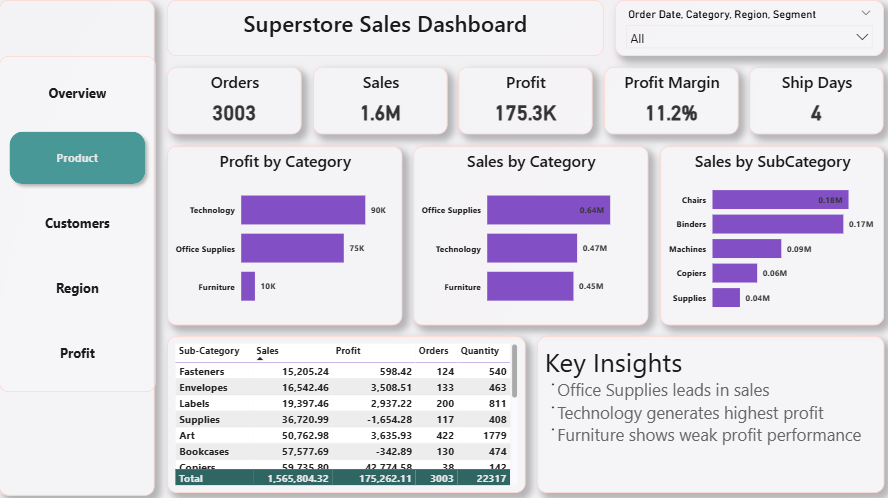

Layout of this report page (visuals, bound fields, positions):
{"tool":"powerbi","page":{"name":"Product","canvas":[1280,720],"ordinal":1},"visuals":[{"type":"shape","box":[0,0,221.7,708.3],"z":0,"group":"g1"},{"type":"clusteredBarChart","title":"Profit by Category","fields":{"Category":["Sheet1.Category"],"Y":["Measures_Tables.Total Profit"]},"box":[240,208,336,256],"z":0},{"type":"clusteredBarChart","title":"Sales by SubCategory","fields":{"Category":["Sheet1.Sub-Category"],"Y":["Measures_Tables.Total Sales"]},"box":[944,208,320,256],"z":1000},{"type":"pageNavigator","box":[0,80,224,480],"z":2000,"group":"g1"},{"type":"clusteredBarChart","title":"Sales by Category","fields":{"Category":["Sheet1.Category"],"Y":["Measures_Tables.Total Sales"]},"box":[592,208,336,256],"z":2000},{"type":"tableEx","fields":{"Values":["Sheet1.Sub-Category","Measures_Tables.Total Sales","Measures_Tables.Total Profit","Measures_Tables.Total Orders","Sum(Sheet1.Quantity)"]},"box":[240,480,512,224],"z":3000},{"type":"group","id":"g1","title":"Group 1","box":[0,0,224,720],"z":4000},{"type":"card","title":"Profit","fields":{"Values":["Measures_Tables.Total Profit"]},"box":[656,96,192,96],"z":5000},{"type":"card","title":"Sales","fields":{"Values":["Measures_Tables.Total Sales"]},"box":[448,96,192,96],"z":6000},{"type":"card","title":"Orders","fields":{"Values":["Measures_Tables.Total Orders"]},"box":[240,96,192,96],"z":7000},{"type":"card","title":"Ship Days","fields":{"Values":["Avg(Sheet1.Avg Delivery)"]},"box":[1072,96,192,96],"z":8000},{"type":"card","title":"Profit Margin","fields":{"Values":["Measures_Tables.Profit Margin %"]},"box":[864,96,192,96],"z":9000},{"type":"textbox","box":[240,0,624,80],"z":10000},{"type":"textbox","box":[768,480,496,224],"z":11000},{"type":"slicer","fields":{"Values":["Sheet1.Order Date.Variation.Date Hierarchy.Year","Sheet1.Category","Sheet1.Region","Sheet1.Segment"]},"box":[880,0,384,80],"z":12000}]}

Visuals, with their boxes in screenshot pixels (x1, y1, x2, y2), scaled from the page's 1280x720 canvas onto the 888x498 screenshot:
shape: Rect(0, 0, 154, 490)
"Profit by Category" clusteredBarChart: Rect(166, 144, 400, 321)
"Sales by SubCategory" clusteredBarChart: Rect(655, 144, 877, 321)
pageNavigator: Rect(0, 55, 155, 387)
"Sales by Category" clusteredBarChart: Rect(411, 144, 644, 321)
tableEx - Sheet1.Sub-Category x Measures_Tables.Total Sales: Rect(166, 332, 522, 487)
"Group 1" group: Rect(0, 0, 155, 497)
"Profit" card: Rect(455, 66, 588, 133)
"Sales" card: Rect(311, 66, 444, 133)
"Orders" card: Rect(166, 66, 300, 133)
"Ship Days" card: Rect(744, 66, 877, 133)
"Profit Margin" card: Rect(599, 66, 733, 133)
textbox: Rect(166, 0, 599, 55)
textbox: Rect(533, 332, 877, 487)
slicer - Sheet1.Order Date.Variation.Date Hierarchy.Year x Sheet1.Category: Rect(610, 0, 877, 55)
